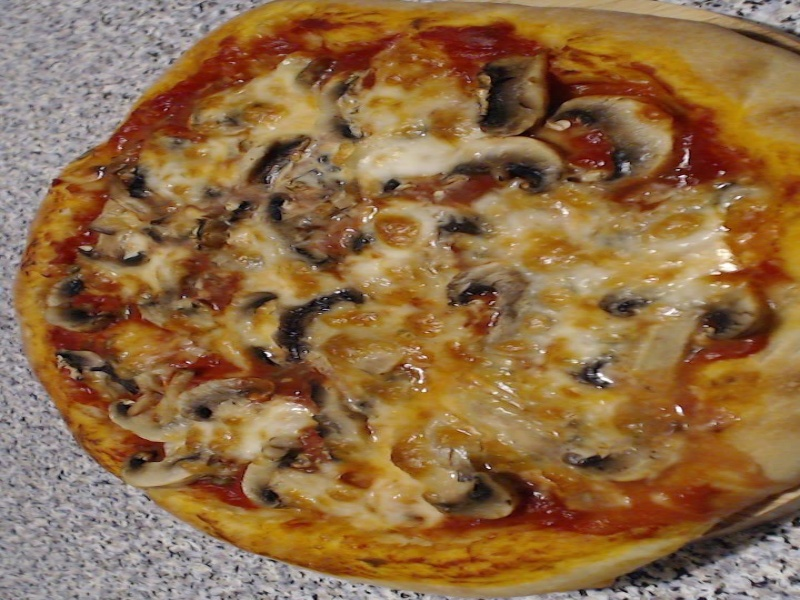champignon: (557, 90, 704, 201), (466, 47, 566, 139), (171, 372, 288, 429), (454, 140, 564, 194), (241, 434, 308, 508), (117, 448, 219, 491)
